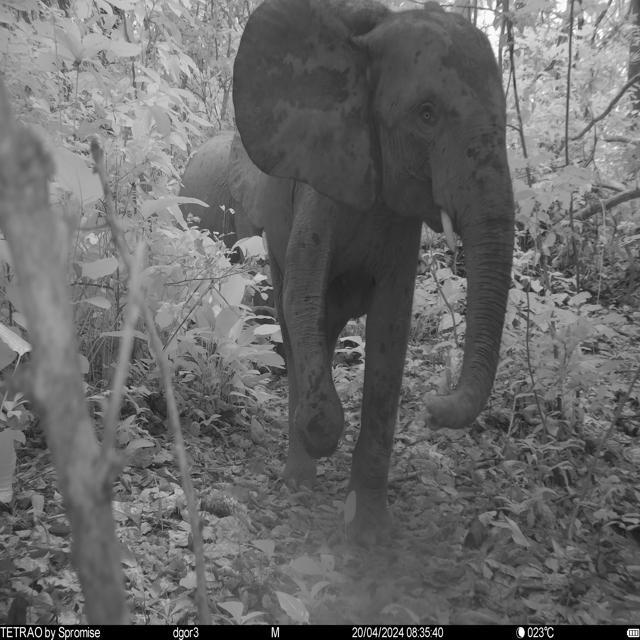ear: (232, 0, 378, 212)
elephant: (231, 1, 517, 546), (177, 131, 265, 259)
tusk: (438, 208, 458, 255)
